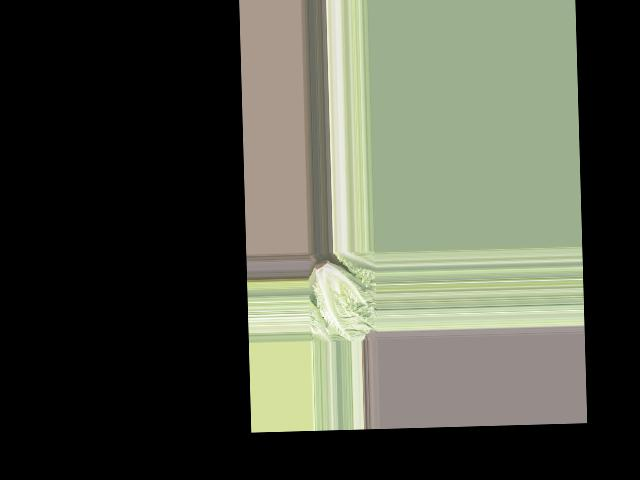lettuce: (307, 255, 372, 341)
